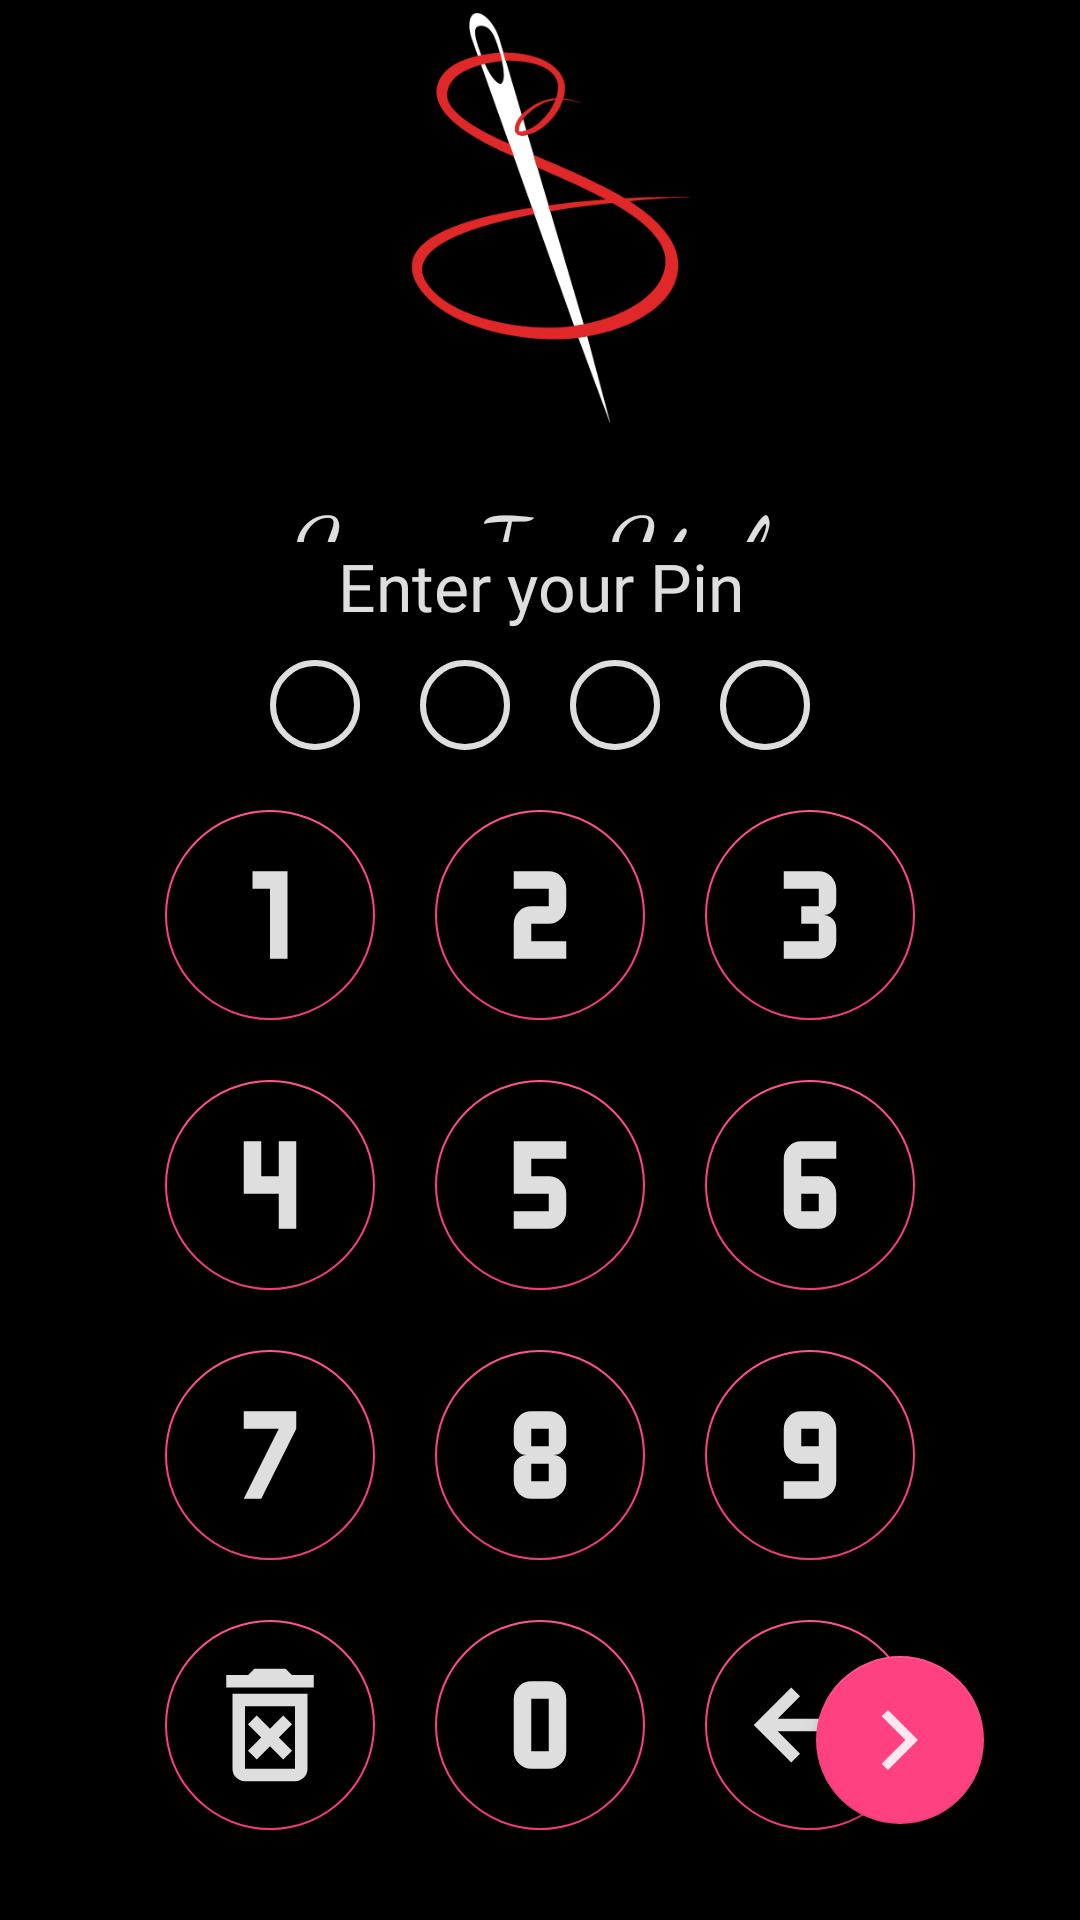

Named icons in this screenshot (1080 x 1920) and their bounding boxes, (x1, y1, x2, y2):
delete: (165, 1620, 375, 1830)
